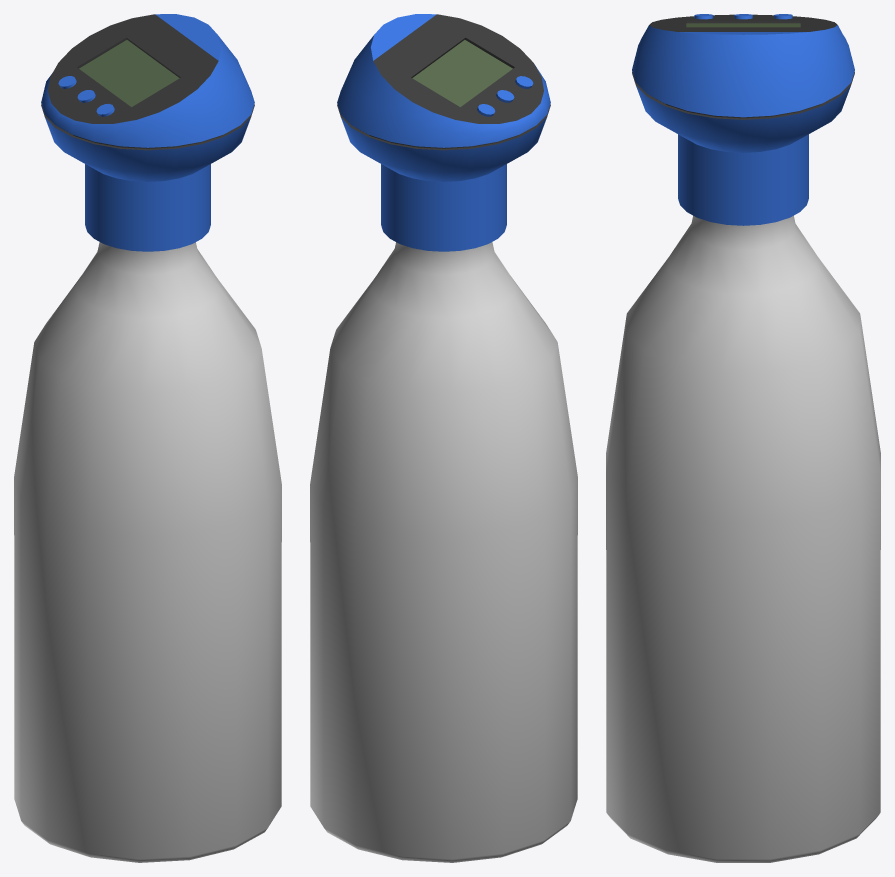
The model's file is OxyBottle.fbx.
The picture shows the model from 3 angles, left to right: view 1: azimuth 30°, elevation 25°; view 2: azimuth 150°, elevation 25°; view 3: azimuth 270°, elevation 25°; orthographic projection. The views are drawn at different scales.
Visible parts, largest first — view 1: Korken Bottle 0.5l (17oz).004, Cylinder.041; view 2: Korken Bottle 0.5l (17oz).004, Cylinder.041; view 3: Korken Bottle 0.5l (17oz).004, Cylinder.041.
Boxes of the visible parts, box(x1,y1,x2,y2) form: Korken Bottle 0.5l (17oz).004: box(14, 242, 281, 862); Cylinder.041: box(41, 14, 254, 251); Korken Bottle 0.5l (17oz).004: box(310, 242, 577, 862); Cylinder.041: box(337, 14, 550, 251); Korken Bottle 0.5l (17oz).004: box(606, 215, 880, 862); Cylinder.041: box(632, 14, 854, 225).
Bounding box in the file's own units: 7.26 × 23.48 × 7.26.
